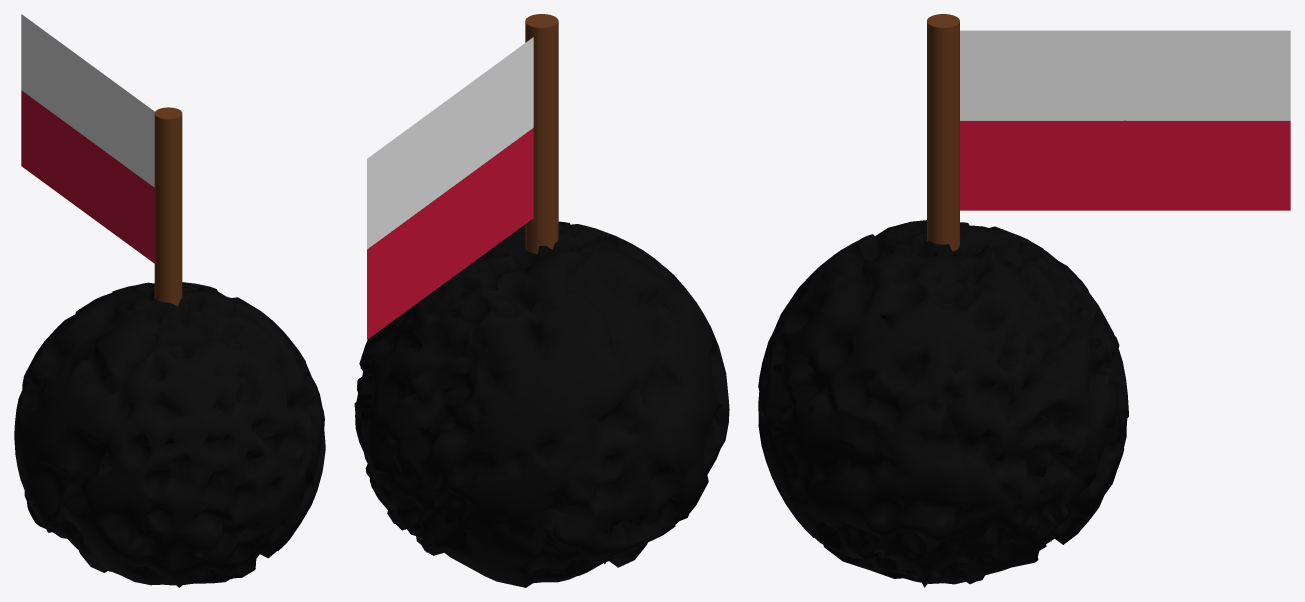
File: Moon_flag.glb
3 renders of one model, left to right at view 1: azimuth 30°, elevation 25°; view 2: azimuth 150°, elevation 25°; view 3: azimuth 270°, elevation 25°, orthographic. The views are drawn at different scales.
Parts seen in each view (by area): view 1: Moon, pl, Pole; view 2: Moon, pl, Pole; view 3: Moon, pl, Pole.
Part boxes in pixels (x1=…): Moon: x1=14, y1=282, x2=325, y2=587; pl: x1=21, y1=14, x2=154, y2=263; Pole: x1=154, y1=107, x2=182, y2=306; Moon: x1=354, y1=221, x2=729, y2=587; pl: x1=367, y1=37, x2=533, y2=339; Pole: x1=525, y1=14, x2=558, y2=253; Moon: x1=758, y1=220, x2=1128, y2=587; pl: x1=960, y1=30, x2=1290, y2=210; Pole: x1=927, y1=14, x2=959, y2=251.
Size of the model in its own units: 1.13 by 1.82 by 1.61.
4 materials, 3 textured.
